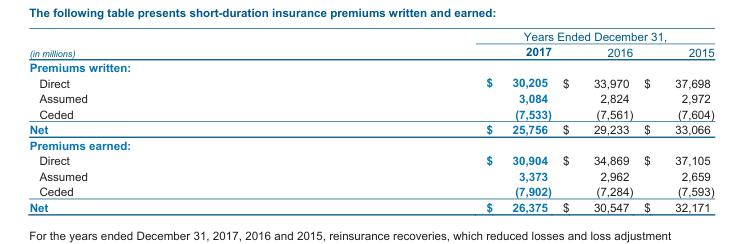table: (28, 29, 713, 213)
table column: (286, 29, 556, 213), (28, 29, 286, 213), (556, 29, 637, 213), (637, 29, 713, 213)
table column header: (28, 29, 713, 59)
table projected row header: (28, 136, 713, 152), (28, 59, 713, 74)
table row: (28, 43, 713, 59), (28, 74, 713, 90), (28, 105, 713, 121), (28, 136, 713, 152), (28, 167, 713, 183), (28, 59, 713, 74), (28, 90, 713, 105), (28, 121, 713, 136), (28, 152, 713, 167), (28, 183, 713, 198), (28, 198, 713, 213), (28, 29, 713, 43)
table spanning cell: (28, 29, 286, 59), (286, 29, 713, 43)
